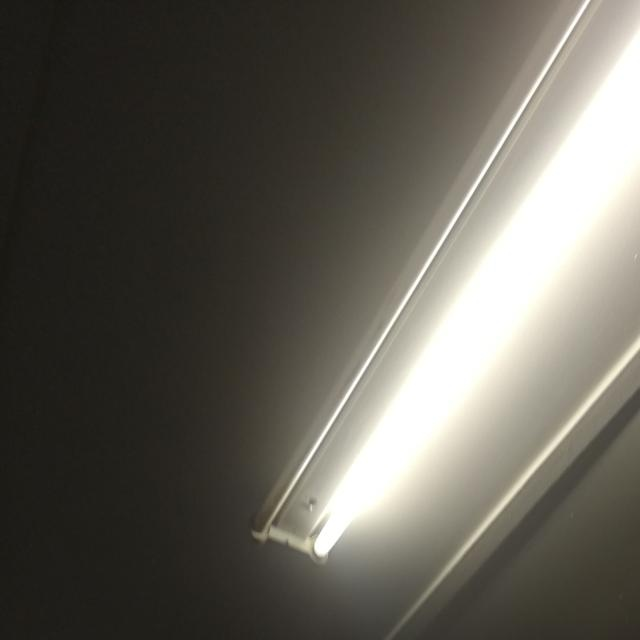fluorescent tube: (347, 0, 640, 583)
